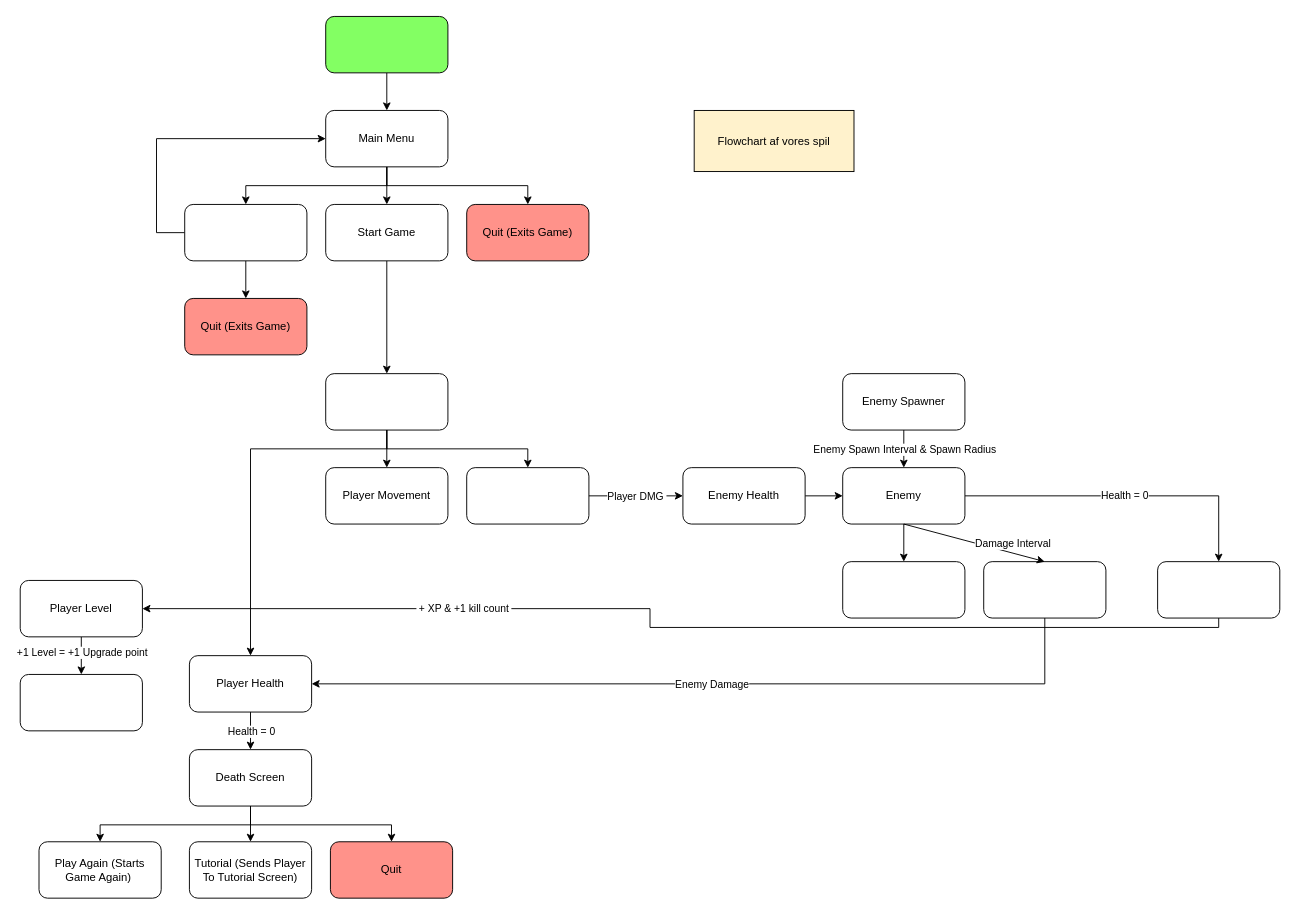
Some shapes in this 1296 by 915 pixel diagram are drawn without their labels. The shapes that lost their labels are listed below. From the top down, each one's centre as x and y in pixels, then its label:
At [386,44]: "Start".
At [245,232]: "Tutorial".
At [386,401]: "Take control of the player".
At [527,495]: "Player Attack".
At [903,589]: "Enemy Follow Player".
At [1044,589]: "Enemy Damage Player".
At [1218,589]: "Enemy Dead".
At [80,702]: "Player Upgrade".
